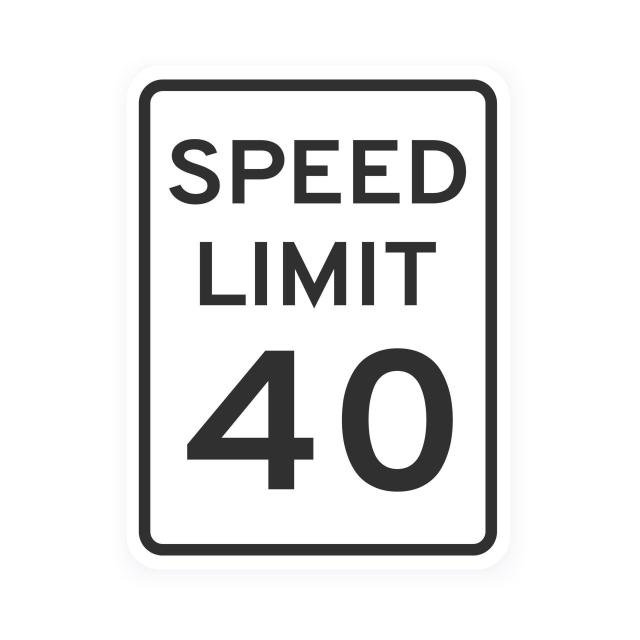speedLimit40: (134, 77, 503, 564)
